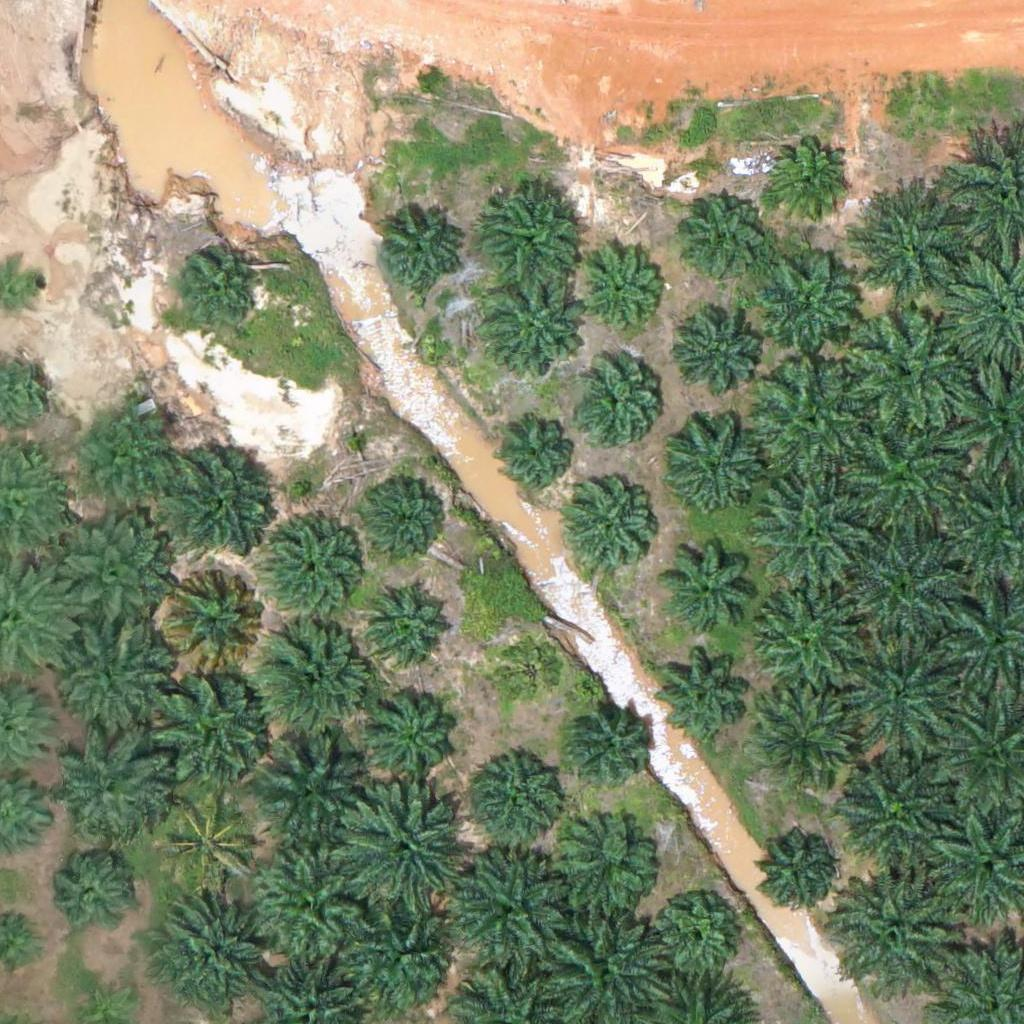Kelapa_Sawit: (854, 181, 979, 307), (849, 306, 974, 432), (842, 409, 967, 535), (843, 522, 968, 648), (839, 630, 964, 756), (828, 868, 953, 994), (751, 355, 876, 481), (155, 435, 280, 561), (149, 669, 274, 795), (52, 616, 177, 742), (49, 722, 174, 848), (251, 611, 376, 737), (247, 842, 372, 968), (154, 889, 279, 1015), (335, 785, 460, 911), (440, 849, 565, 975), (44, 515, 169, 640), (250, 727, 375, 852), (150, 783, 263, 897), (833, 752, 946, 865), (157, 564, 270, 677), (547, 817, 660, 930), (69, 398, 181, 512), (258, 514, 370, 628), (749, 679, 861, 792), (753, 572, 865, 685), (753, 471, 865, 584), (761, 253, 861, 354), (657, 534, 757, 635), (656, 641, 756, 742), (484, 277, 584, 378), (480, 184, 580, 285), (359, 679, 459, 780), (462, 754, 562, 855), (662, 415, 762, 515), (652, 892, 740, 980), (683, 194, 771, 282), (576, 249, 664, 337), (573, 362, 661, 450), (565, 485, 653, 573), (375, 209, 463, 297), (564, 696, 651, 785), (174, 250, 261, 338), (493, 409, 580, 497), (763, 137, 850, 225), (677, 313, 764, 401), (44, 849, 131, 937), (367, 579, 454, 667), (362, 474, 449, 562), (493, 632, 568, 708), (759, 835, 834, 910)
